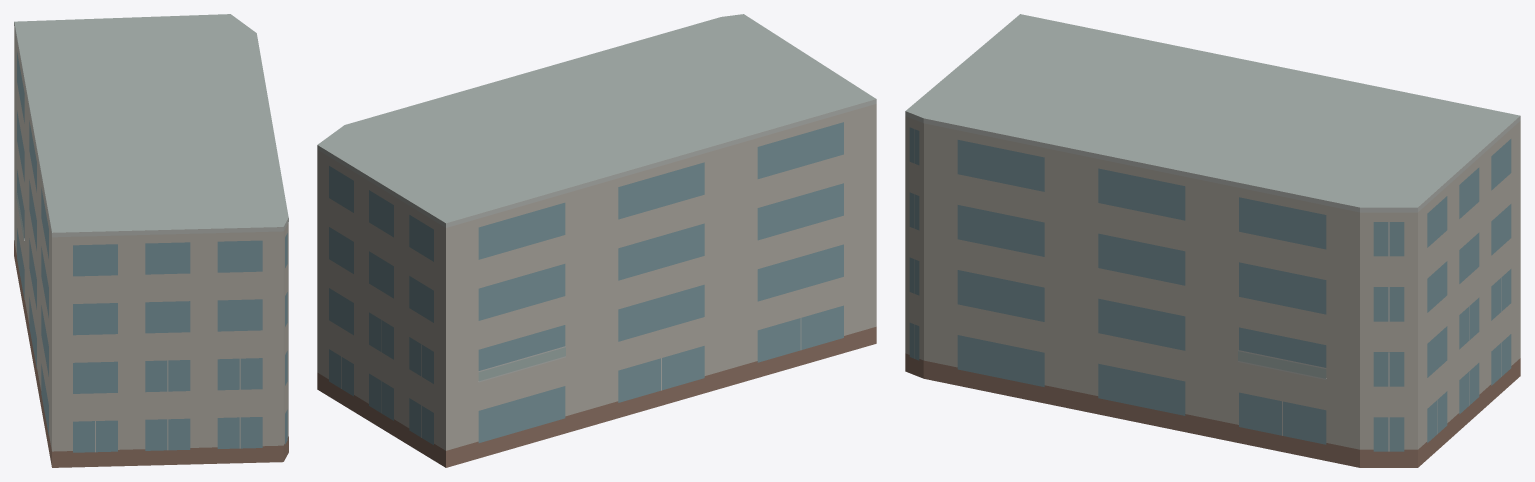
File: survey-upis-32890957.glb
3 renders of one model, left to right at view 1: azimuth 30°, elevation 25°; view 2: azimuth 150°, elevation 25°; view 3: azimuth 270°, elevation 25°, orthographic. The views are drawn at different scales.
Parts seen in each view (by area): view 1: survey-upis-32890957.tmp; view 2: survey-upis-32890957.tmp; view 3: survey-upis-32890957.tmp.
Part boxes in pixels (x1,y1,x2,y2): survey-upis-32890957.tmp: [14, 14, 288, 467]; survey-upis-32890957.tmp: [317, 14, 876, 467]; survey-upis-32890957.tmp: [905, 14, 1520, 467].
Size of the model in its own units: 20.42 by 12.8 by 27.42.
